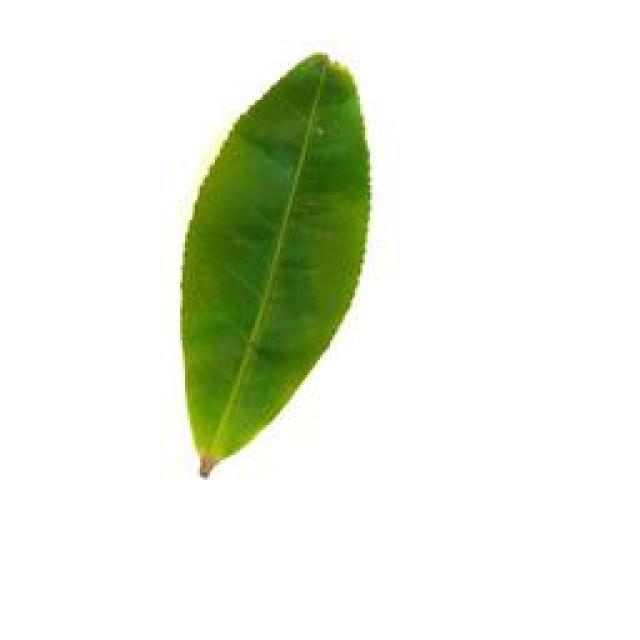Healthy: (180, 42, 368, 486)
